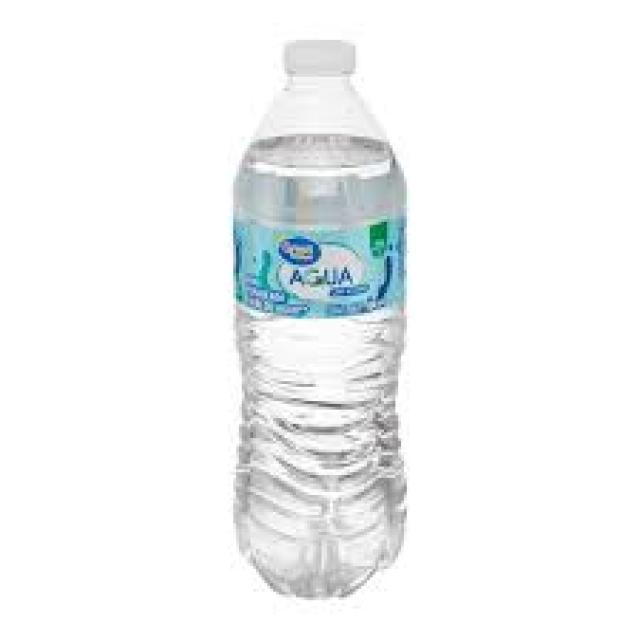Botella: (229, 12, 412, 599)
